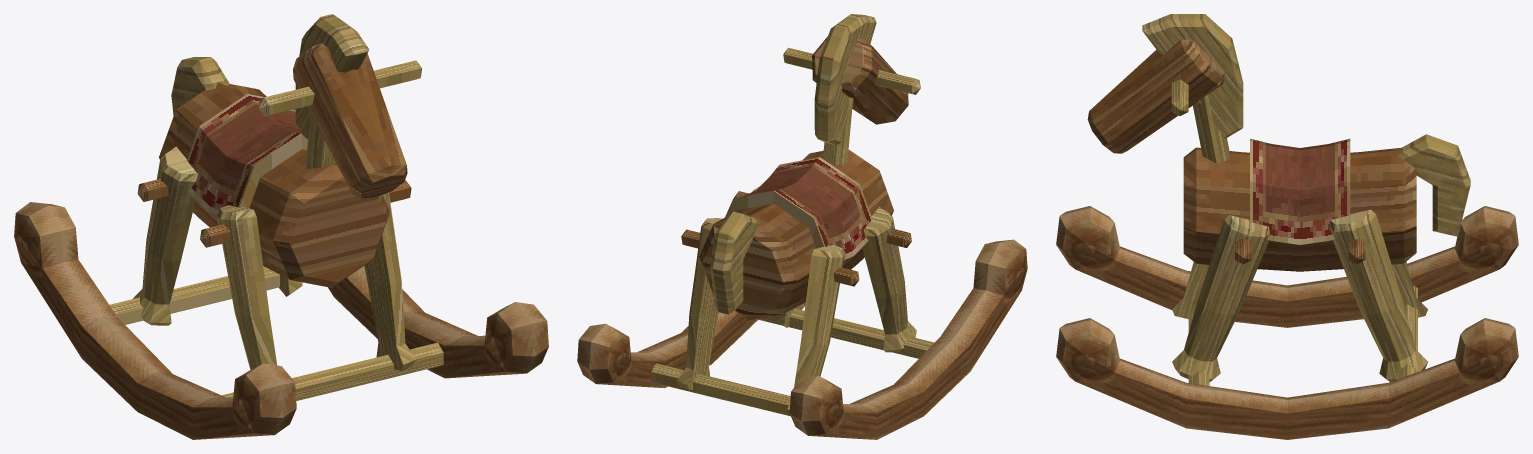
The model's file is Rocking Horse.obj.
3 views of the same model, side by side, from view 1: azimuth 30°, elevation 25°; view 2: azimuth 150°, elevation 25°; view 3: azimuth 270°, elevation 25° (orthographic). The views are drawn at different scales.
Visible parts, largest first — view 1: shape0_material0; view 2: shape0_material0; view 3: shape0_material0.
Boxes of the visible parts, box(x1,y1,x2,y2) form: shape0_material0: box(14, 14, 548, 439); shape0_material0: box(577, 14, 1027, 439); shape0_material0: box(1056, 14, 1518, 439).
Bounding box in the file's own units: 1.5 × 1.88 × 2.2.
Materials: 3 (3 with a texture image).
